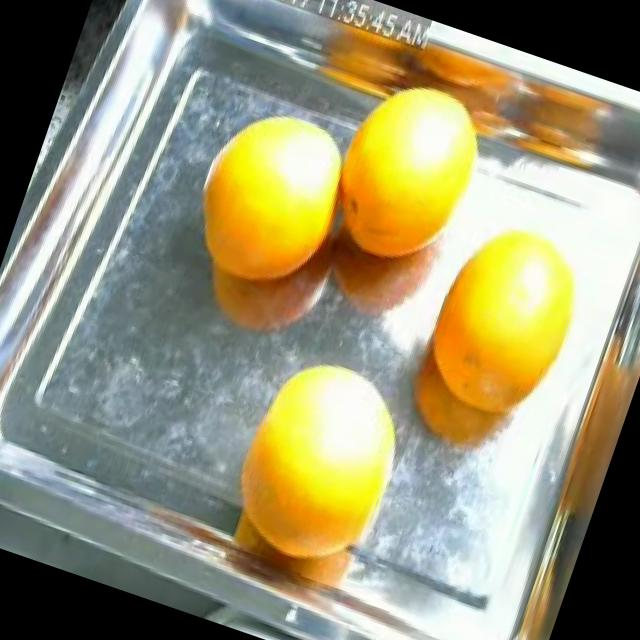Fruit: (159, 73, 375, 323)
